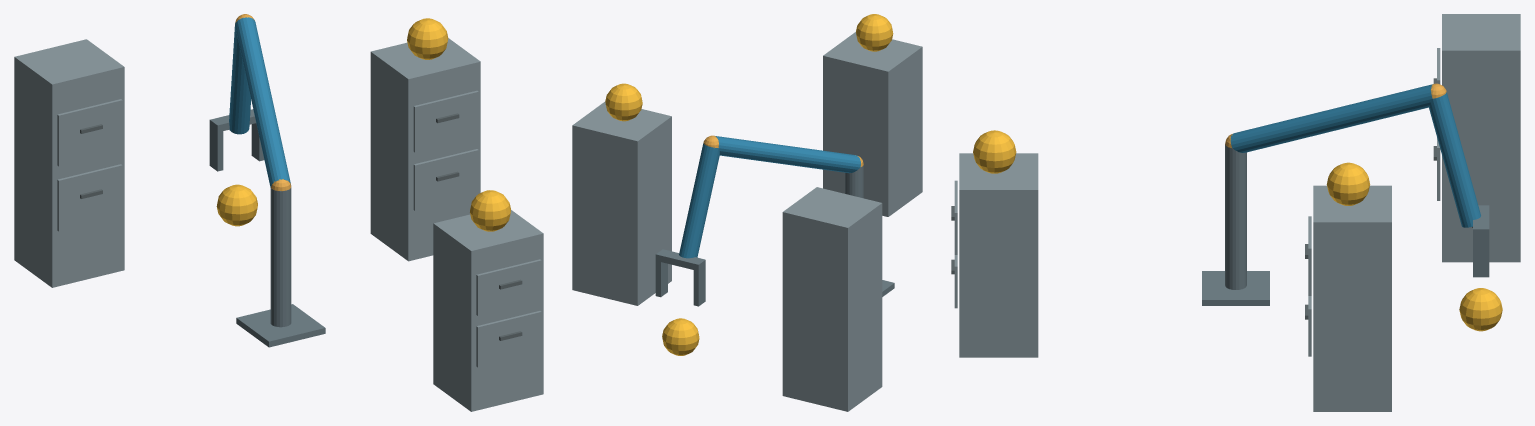
3 views of the same model, side by side, from view 1: azimuth 30°, elevation 25°; view 2: azimuth 150°, elevation 25°; view 3: azimuth 270°, elevation 25° (orthographic). The views are drawn at different scales.
Visible parts, largest first — view 1: cabinet_3 body, cabinet_2 body, cabinet_1 body, moving link 1, cabinet_3 drawer front, cabinet_3 drawer front.001, cabinet_2 drawer front.001, cabinet_2 drawer front, fixed post, cabinet_1 drawer front, cabinet_1 drawer front.001, pedestal (+5 smaller); view 2: cabinet_3 body, cabinet_2 body, cabinet_1 body, moving link 1, moving link 2, released ball_2, ball ball_3, released ball_1, gripper bridge, fixed post, gripper finger -1, gripper finger 1; view 3: cabinet_2 body, cabinet_3 body, cabinet_1 body, moving link 1, fixed post, moving link 2, pedestal, released ball_1, ball ball_3, released ball_2, gripper finger 1.
Part boxes in pixels (left/top/right/bottom): cabinet_3 body: left=14, top=39, right=124, bottom=287; cabinet_2 body: left=370, top=38, right=480, bottom=261; cabinet_1 body: left=433, top=210, right=543, bottom=411; moving link 1: left=235, top=17, right=290, bottom=187; cabinet_3 drawer front: left=57, top=164, right=122, bottom=231; cabinet_3 drawer front.001: left=57, top=99, right=122, bottom=166; cabinet_2 drawer front.001: left=413, top=90, right=478, bottom=152; cabinet_2 drawer front: left=413, top=149, right=478, bottom=210; fixed post: left=270, top=187, right=291, bottom=327; cabinet_1 drawer front: left=476, top=311, right=541, bottom=367; cabinet_1 drawer front.001: left=476, top=259, right=541, bottom=315; pedestal: left=236, top=304, right=325, bottom=347; cabinet_3 body: left=782, top=187, right=882, bottom=411; cabinet_2 body: left=572, top=101, right=671, bottom=305; cabinet_1 body: left=823, top=32, right=922, bottom=216; moving link 1: left=715, top=136, right=860, bottom=173; moving link 2: left=679, top=143, right=719, bottom=258; released ball_2: left=605, top=83, right=642, bottom=121; ball ball_3: left=662, top=318, right=699, bottom=355; released ball_1: left=856, top=14, right=893, bottom=51; gripper bridge: left=655, top=249, right=705, bottom=271; fixed post: left=845, top=165, right=863, bottom=198; gripper finger -1: left=693, top=266, right=705, bottom=306; gripper finger 1: left=655, top=261, right=667, bottom=297; cabinet_2 body: left=1313, top=185, right=1391, bottom=411; cabinet_3 body: left=1442, top=14, right=1520, bottom=262; cabinet_1 body: left=959, top=153, right=1038, bottom=357; moving link 1: left=1230, top=84, right=1432, bottom=152; fixed post: left=1225, top=144, right=1246, bottom=289; moving link 2: left=1429, top=92, right=1480, bottom=227; pedestal: left=1202, top=271, right=1269, bottom=305; released ball_1: left=973, top=130, right=1016, bottom=173; ball ball_3: left=1459, top=288, right=1502, bottom=331; released ball_2: left=1326, top=162, right=1370, bottom=205; gripper finger 1: left=1473, top=236, right=1489, bottom=277.
Bounding box in the file's own units: 1.62 × 0.966 × 2.1.
